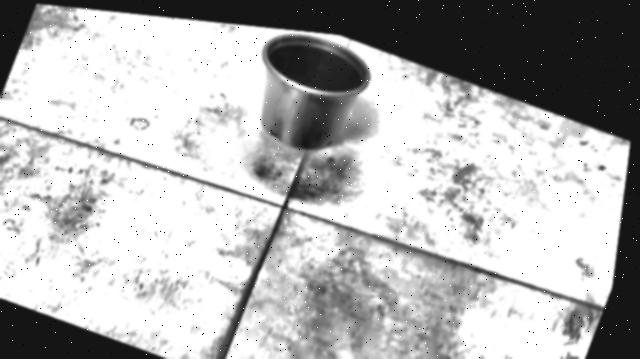pot: (260, 33, 370, 148)
